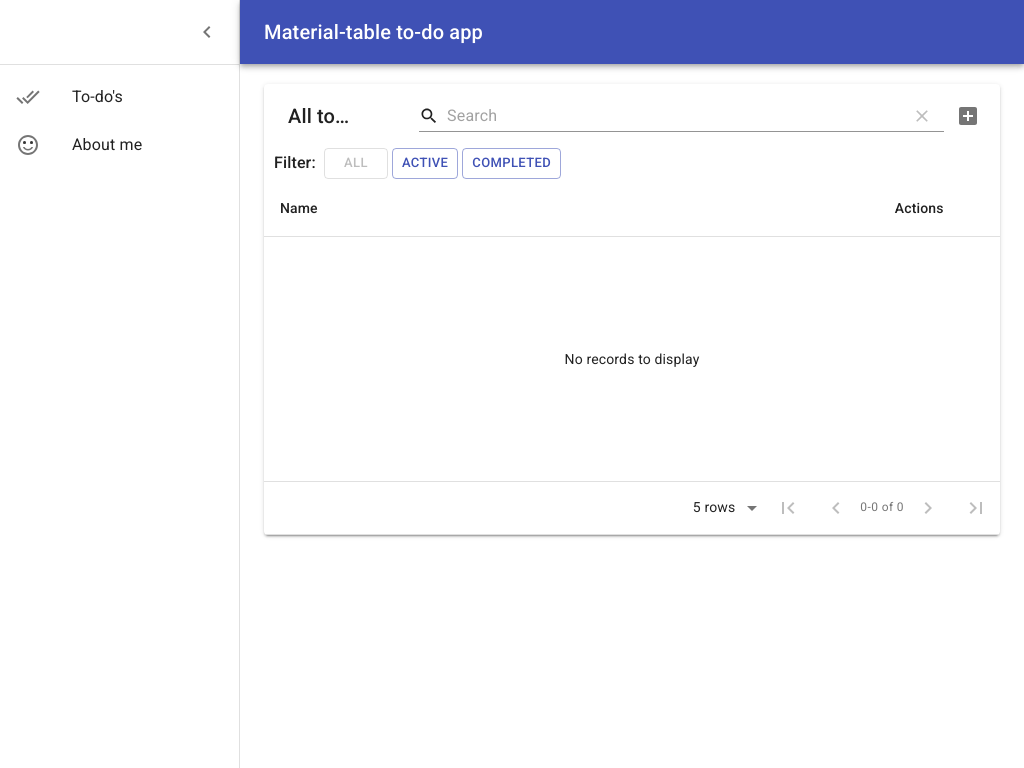
Test: can add two todos
Click the button titled "Add": (968, 116) left=944, top=92, right=992, bottom=140
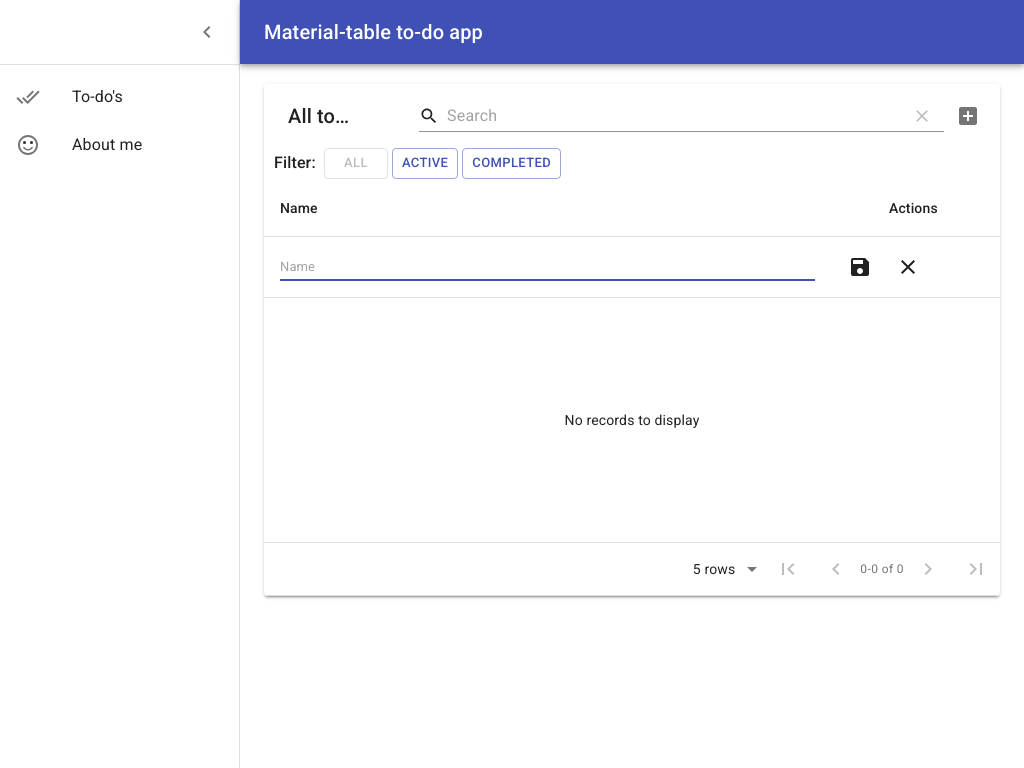
In the field with placeholder "Name": (547, 267) left=280, top=253, right=815, bottom=281, type "My first todo"
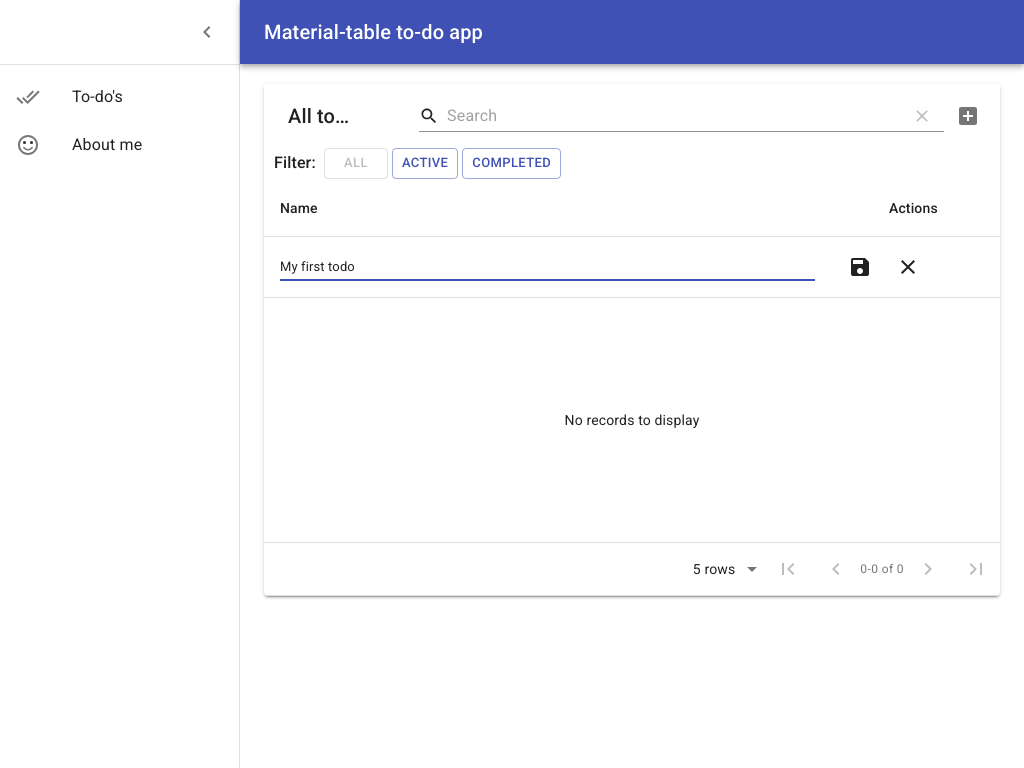
Click the button titled "Save": (860, 267) left=836, top=243, right=884, bottom=291
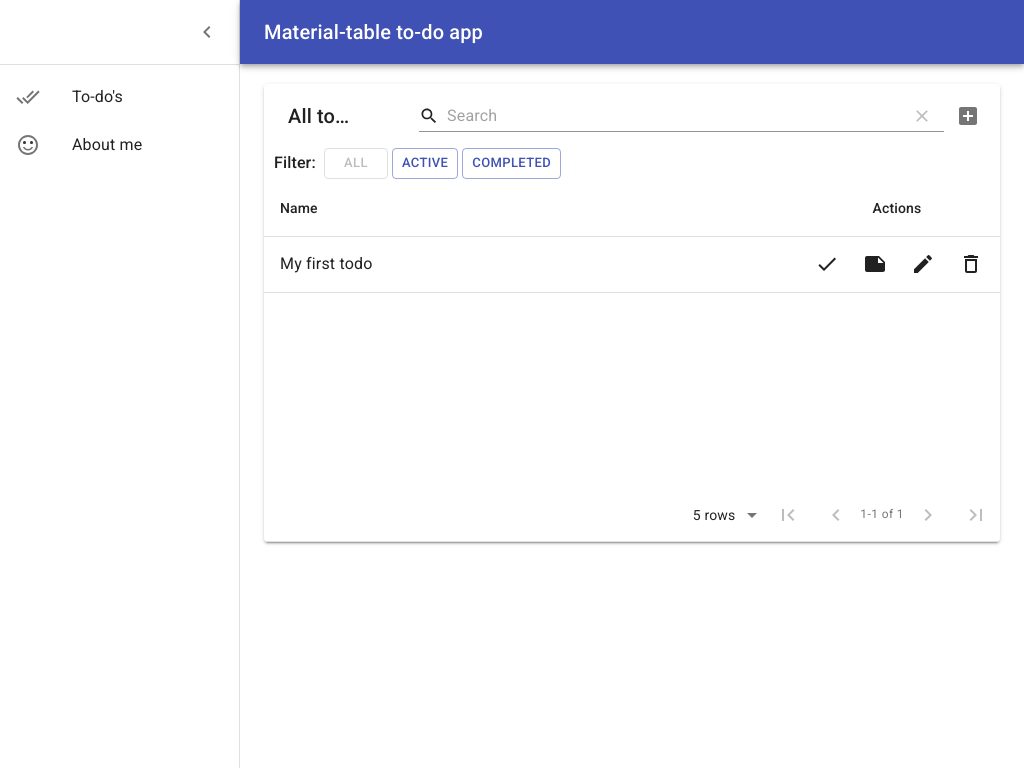
expect the text "My first todo" is shown: met, box left=264, top=236, right=798, bottom=292
Click the button titled "Add": (968, 116) left=944, top=92, right=992, bottom=140
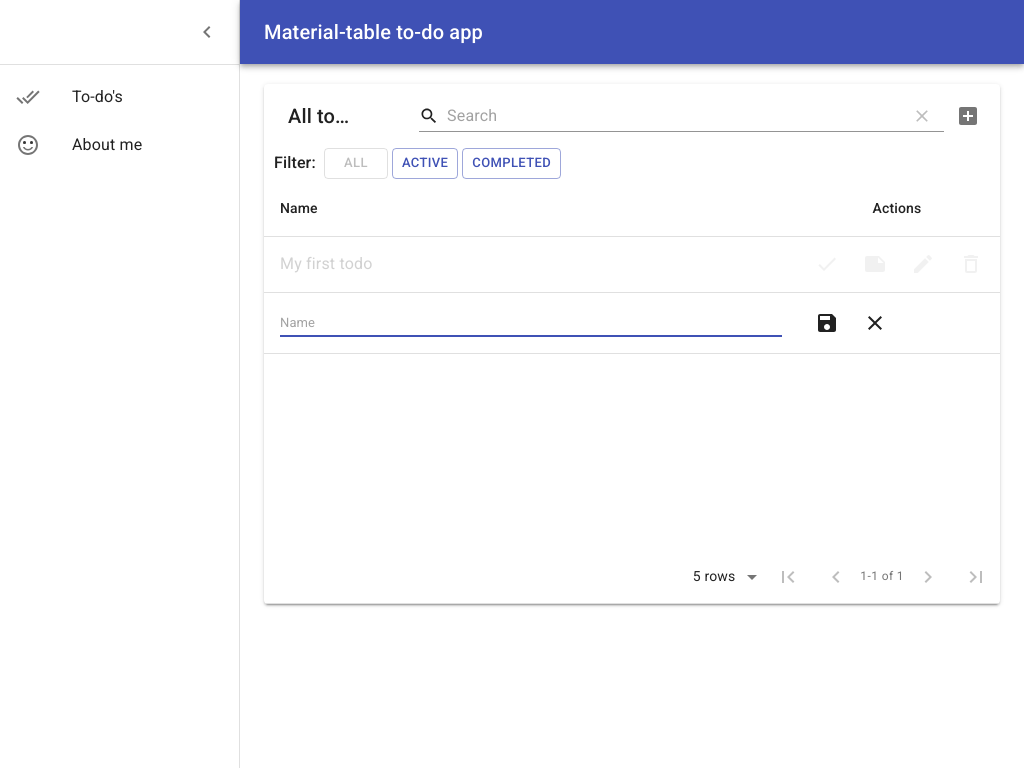
In the field with placeholder "Name": (531, 323) left=280, top=309, right=782, bottom=337, type "My second todo"
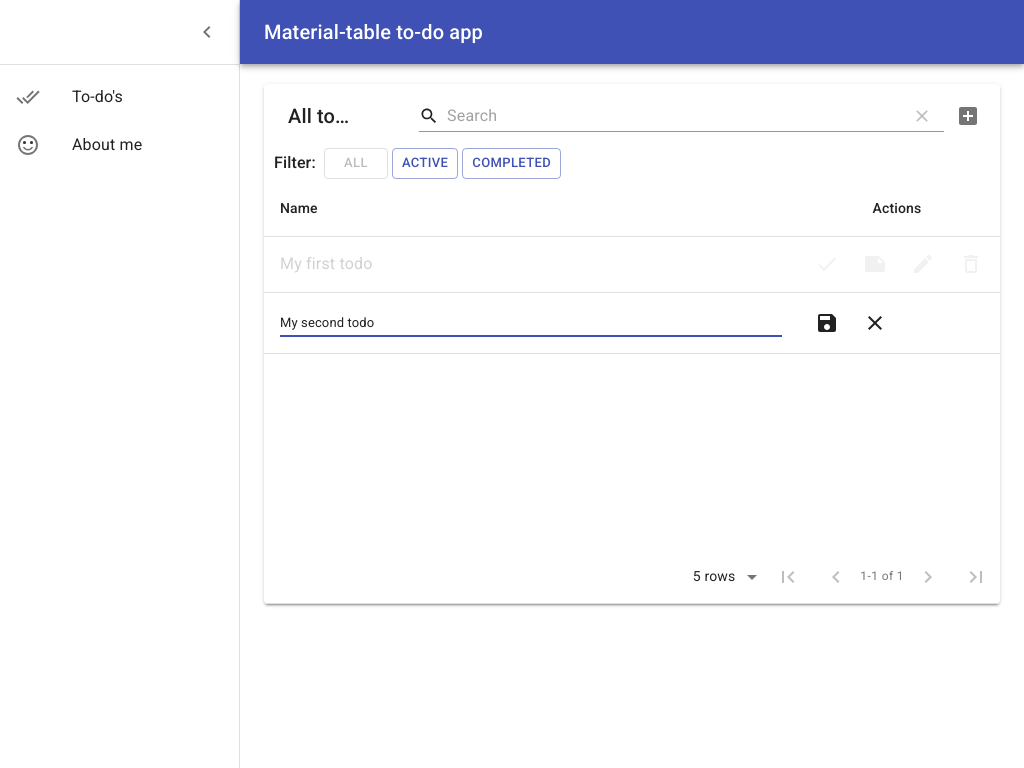
Click the button titled "Save": (827, 323) left=803, top=299, right=851, bottom=347
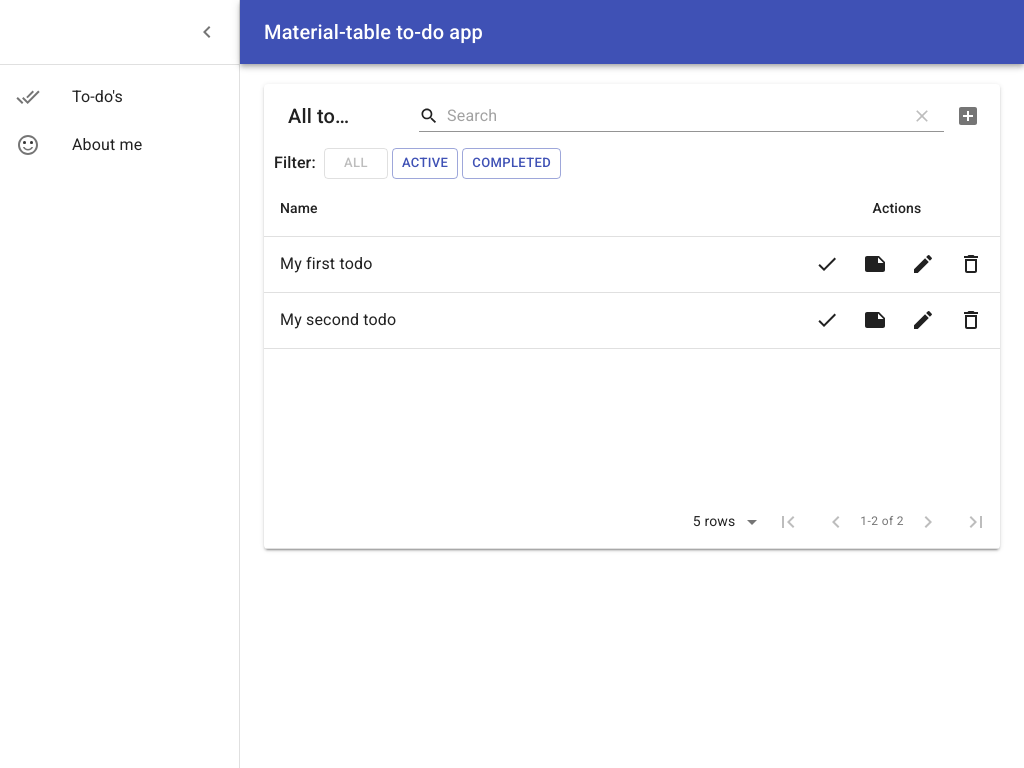
expect the text "My second todo" is shown: met, box left=264, top=292, right=798, bottom=348
